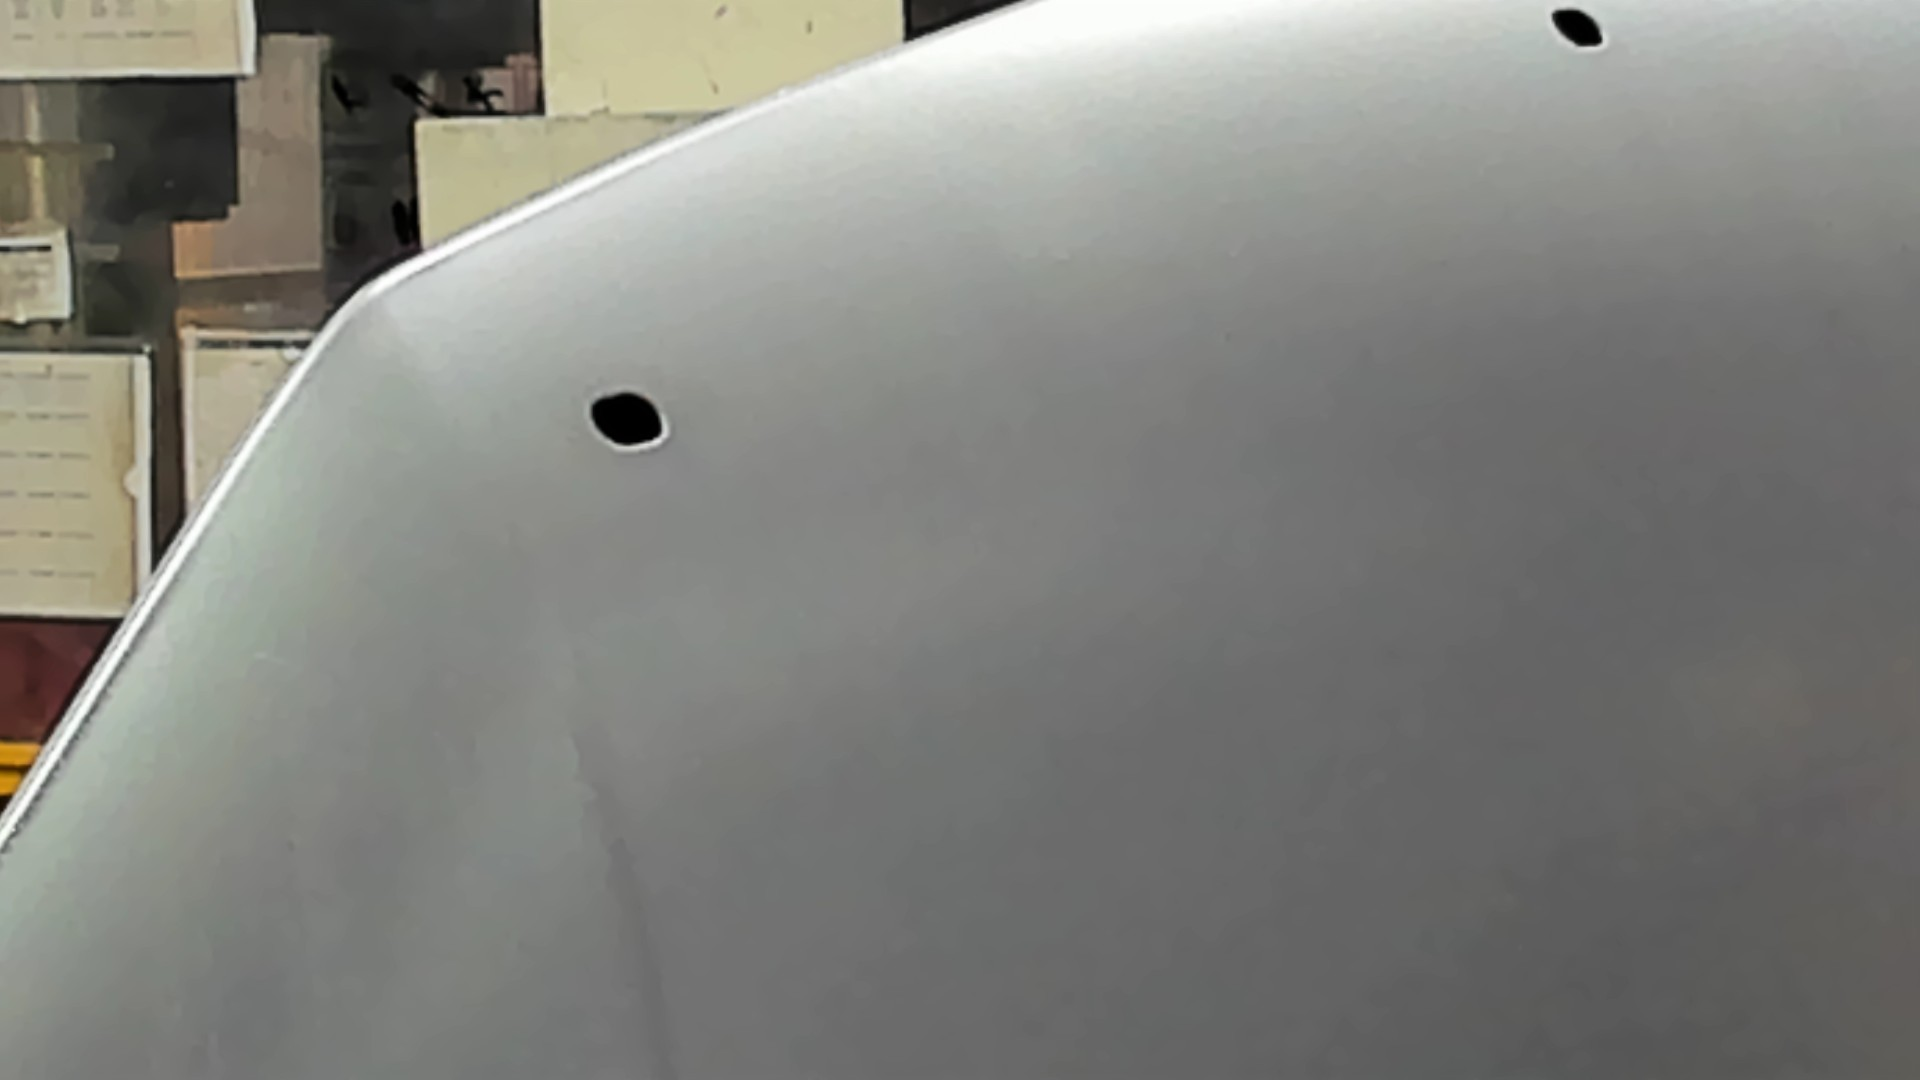amorfo: (580, 388, 676, 456), (1545, 1, 1606, 55)
